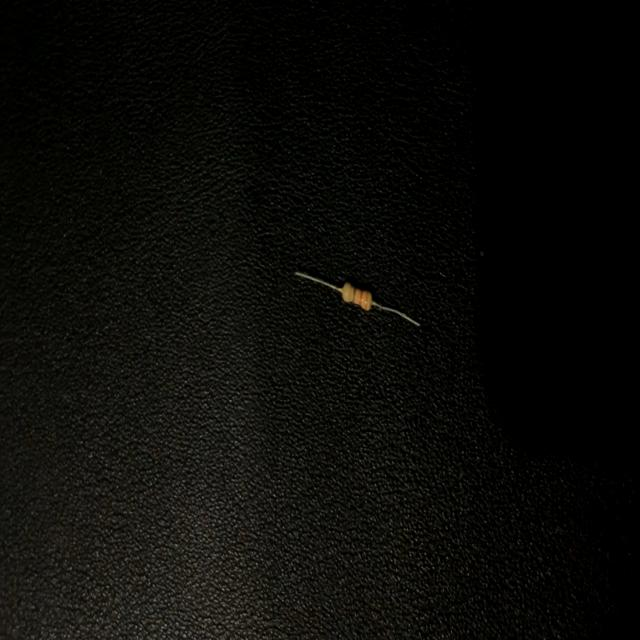resistor: (286, 254, 430, 335)
